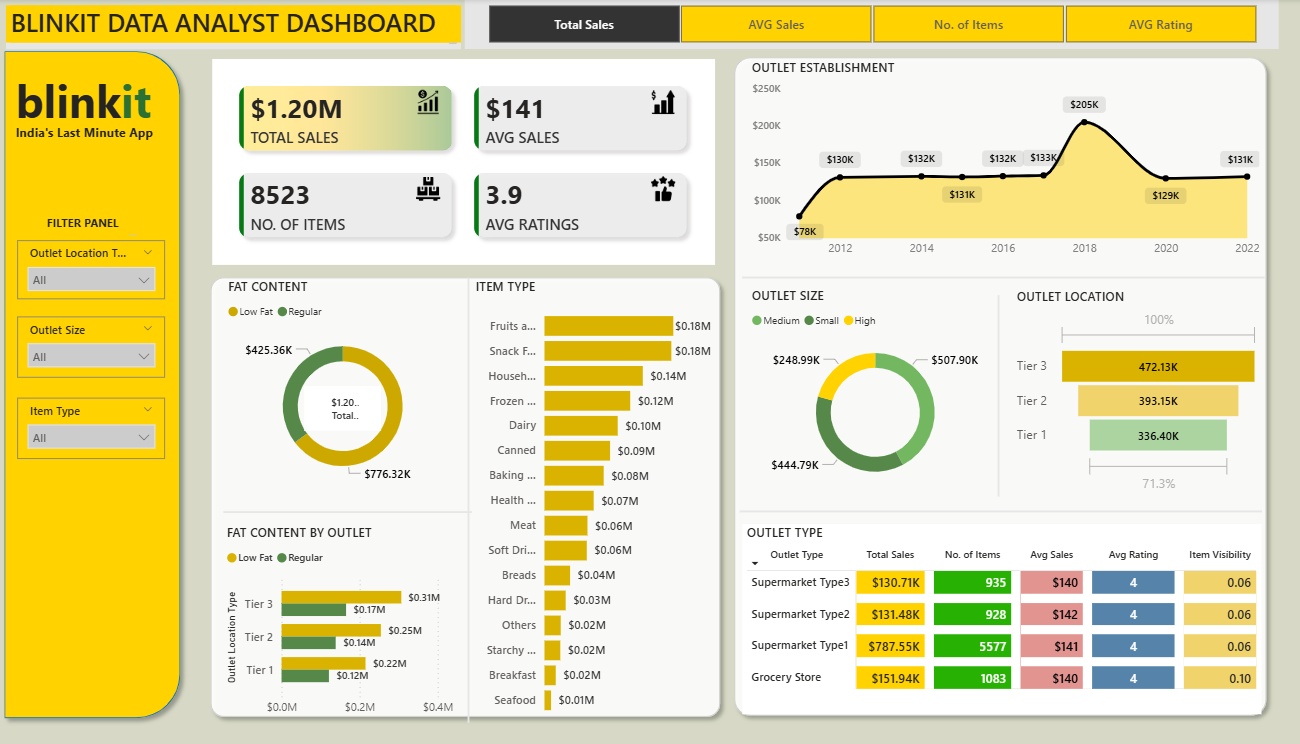

The dashboard page shown, as its layout file describes it:
{"tool":"powerbi","page":{"name":"Page 1","canvas":[1400,800],"ordinal":0},"visuals":[{"type":"shape","box":[0,46.7,206.7,733.3],"z":0},{"type":"textbox","box":[15.7,71.4,158.6,77.1],"z":1000},{"type":"textbox","box":[15.7,128.6,158.6,38.6],"z":2000},{"type":"cardVisual","fields":{"Data":["BlinkIT Grocery Data.Total Sales","BlinkIT Grocery Data.Average Sales","BlinkIT Grocery Data.No. of Items","BlinkIT Grocery Data.Average Rating"]},"box":[231.9,64.3,538.9,221.2],"z":3000},{"type":"shape","box":[221.2,289.5,564.3,489.3],"z":4000},{"type":"donutChart","title":"FAT CONTENT","fields":{"Y":["BlinkIT Grocery Data.Average Rating"],"Category":["BlinkIT Grocery Data.Item Fat Content"]},"box":[244,298.9,256,230.6],"z":5000},{"type":"slicer","fields":{"Values":["Metrics.Metrics"]},"box":[502.7,0,872.7,53.6],"z":6000},{"type":"cardVisual","fields":{"Data":["BlinkIT Grocery Data.Average Rating"]},"box":[325.7,410.2,92.5,59],"z":7000},{"type":"clusteredBarChart","title":"FAT CONTENT BY OUTLET","fields":{"Y":["BlinkIT Grocery Data.Average Rating"],"Category":["BlinkIT Grocery Data.Outlet Location Type"],"Series":["BlinkIT Grocery Data.Item Fat Content"]},"box":[242,563,256,214],"z":8000},{"type":"shape","box":[243.3,540,266.7,20],"z":9000},{"type":"shape","box":[502.7,298.9,8,477.2],"z":10000},{"type":"barChart","title":"ITEM TYPE","fields":{"Y":["BlinkIT Grocery Data.Average Rating"],"Category":["BlinkIT Grocery Data.Item Type"]},"box":[509.4,298.9,262.7,479.9],"z":11000},{"type":"shape","box":[782.8,53.6,588.5,723.9],"z":12000},{"type":"lineChart","title":"OUTLET ESTABLISHMENT","fields":{"Y":["BlinkIT Grocery Data.Total Sales"],"Category":["BlinkIT Grocery Data.Outlet Establishment Year"]},"box":[805.7,64.3,554.3,221.4],"z":13000},{"type":"shape","box":[800,290,560,18.2],"z":14000},{"type":"donutChart","title":"OUTLET SIZE","fields":{"Y":["BlinkIT Grocery Data.Total Sales"],"Category":["BlinkIT Grocery Data.Outlet Size"]},"box":[805,308.3,275,225],"z":15000},{"type":"shape","box":[1062.9,317.1,24.3,215.7],"z":16000},{"type":"funnel","title":"OUTLET LOCATION","fields":{"Y":["Sum(BlinkIT Grocery Data.Sales)"],"Category":["BlinkIT Grocery Data.Outlet Location Type"]},"box":[1090,310,270,225],"z":17000},{"type":"shape","box":[797.1,540,560,18.6],"z":18000},{"type":"pivotTable","title":"OUTLET TYPE","fields":{"Rows":["BlinkIT Grocery Data.Outlet Type"],"Values":["BlinkIT Grocery Data.Total Sales","BlinkIT Grocery Data.No. of Items","BlinkIT Grocery Data.Average Sales","BlinkIT Grocery Data.Average Rating","Avg(BlinkIT Grocery Data.Item Visibility)"]},"box":[800,562.9,557.1,204.3],"z":19000},{"type":"slicer","fields":{"Values":["BlinkIT Grocery Data.Outlet Location Type"]},"box":[22.9,258.6,158.6,62.9],"z":20000},{"type":"slicer","fields":{"Values":["BlinkIT Grocery Data.Outlet Size"]},"box":[22.9,340,158.6,65.7],"z":21000},{"type":"slicer","fields":{"Values":["BlinkIT Grocery Data.Item Type"]},"box":[22.9,427.1,158.6,65.7],"z":22000},{"type":"textbox","title":"FILTER PANEL","box":[50,232.5,106.2,26.2],"z":23000},{"type":"textbox","title":"BLINKIT DATA ANALYST DASHBOARD","box":[10.7,6.7,487.9,46.9],"z":23001}]}

Visuals, with their boxes in screenshot pixels (x1, y1, x2, y2), scaled from the page's 1400x800 canvas onto the 1300x744 screenshot:
shape: bbox=(0, 43, 192, 725)
textbox: bbox=(15, 66, 162, 138)
textbox: bbox=(15, 120, 162, 155)
cardVisual - BlinkIT Grocery Data.Total Sales x BlinkIT Grocery Data.Average Sales: bbox=(215, 60, 716, 266)
shape: bbox=(205, 269, 729, 724)
"FAT CONTENT" donutChart: bbox=(227, 278, 464, 492)
slicer - Metrics.Metrics: bbox=(467, 0, 1277, 50)
cardVisual - BlinkIT Grocery Data.Average Rating: bbox=(302, 381, 388, 436)
"FAT CONTENT BY OUTLET" clusteredBarChart: bbox=(225, 524, 462, 723)
shape: bbox=(226, 502, 474, 521)
shape: bbox=(467, 278, 474, 722)
"ITEM TYPE" barChart: bbox=(473, 278, 717, 724)
shape: bbox=(727, 50, 1273, 723)
"OUTLET ESTABLISHMENT" lineChart: bbox=(748, 60, 1263, 266)
shape: bbox=(743, 270, 1263, 287)
"OUTLET SIZE" donutChart: bbox=(748, 287, 1003, 496)
shape: bbox=(987, 295, 1010, 496)
"OUTLET LOCATION" funnel: bbox=(1012, 288, 1263, 498)
shape: bbox=(740, 502, 1260, 519)
"OUTLET TYPE" pivotTable: bbox=(743, 523, 1260, 713)
slicer - BlinkIT Grocery Data.Outlet Location Type: bbox=(21, 240, 169, 299)
slicer - BlinkIT Grocery Data.Outlet Size: bbox=(21, 316, 169, 377)
slicer - BlinkIT Grocery Data.Item Type: bbox=(21, 397, 169, 458)
"FILTER PANEL" textbox: bbox=(46, 216, 145, 241)
"BLINKIT DATA ANALYST DASHBOARD" textbox: bbox=(10, 6, 463, 50)
